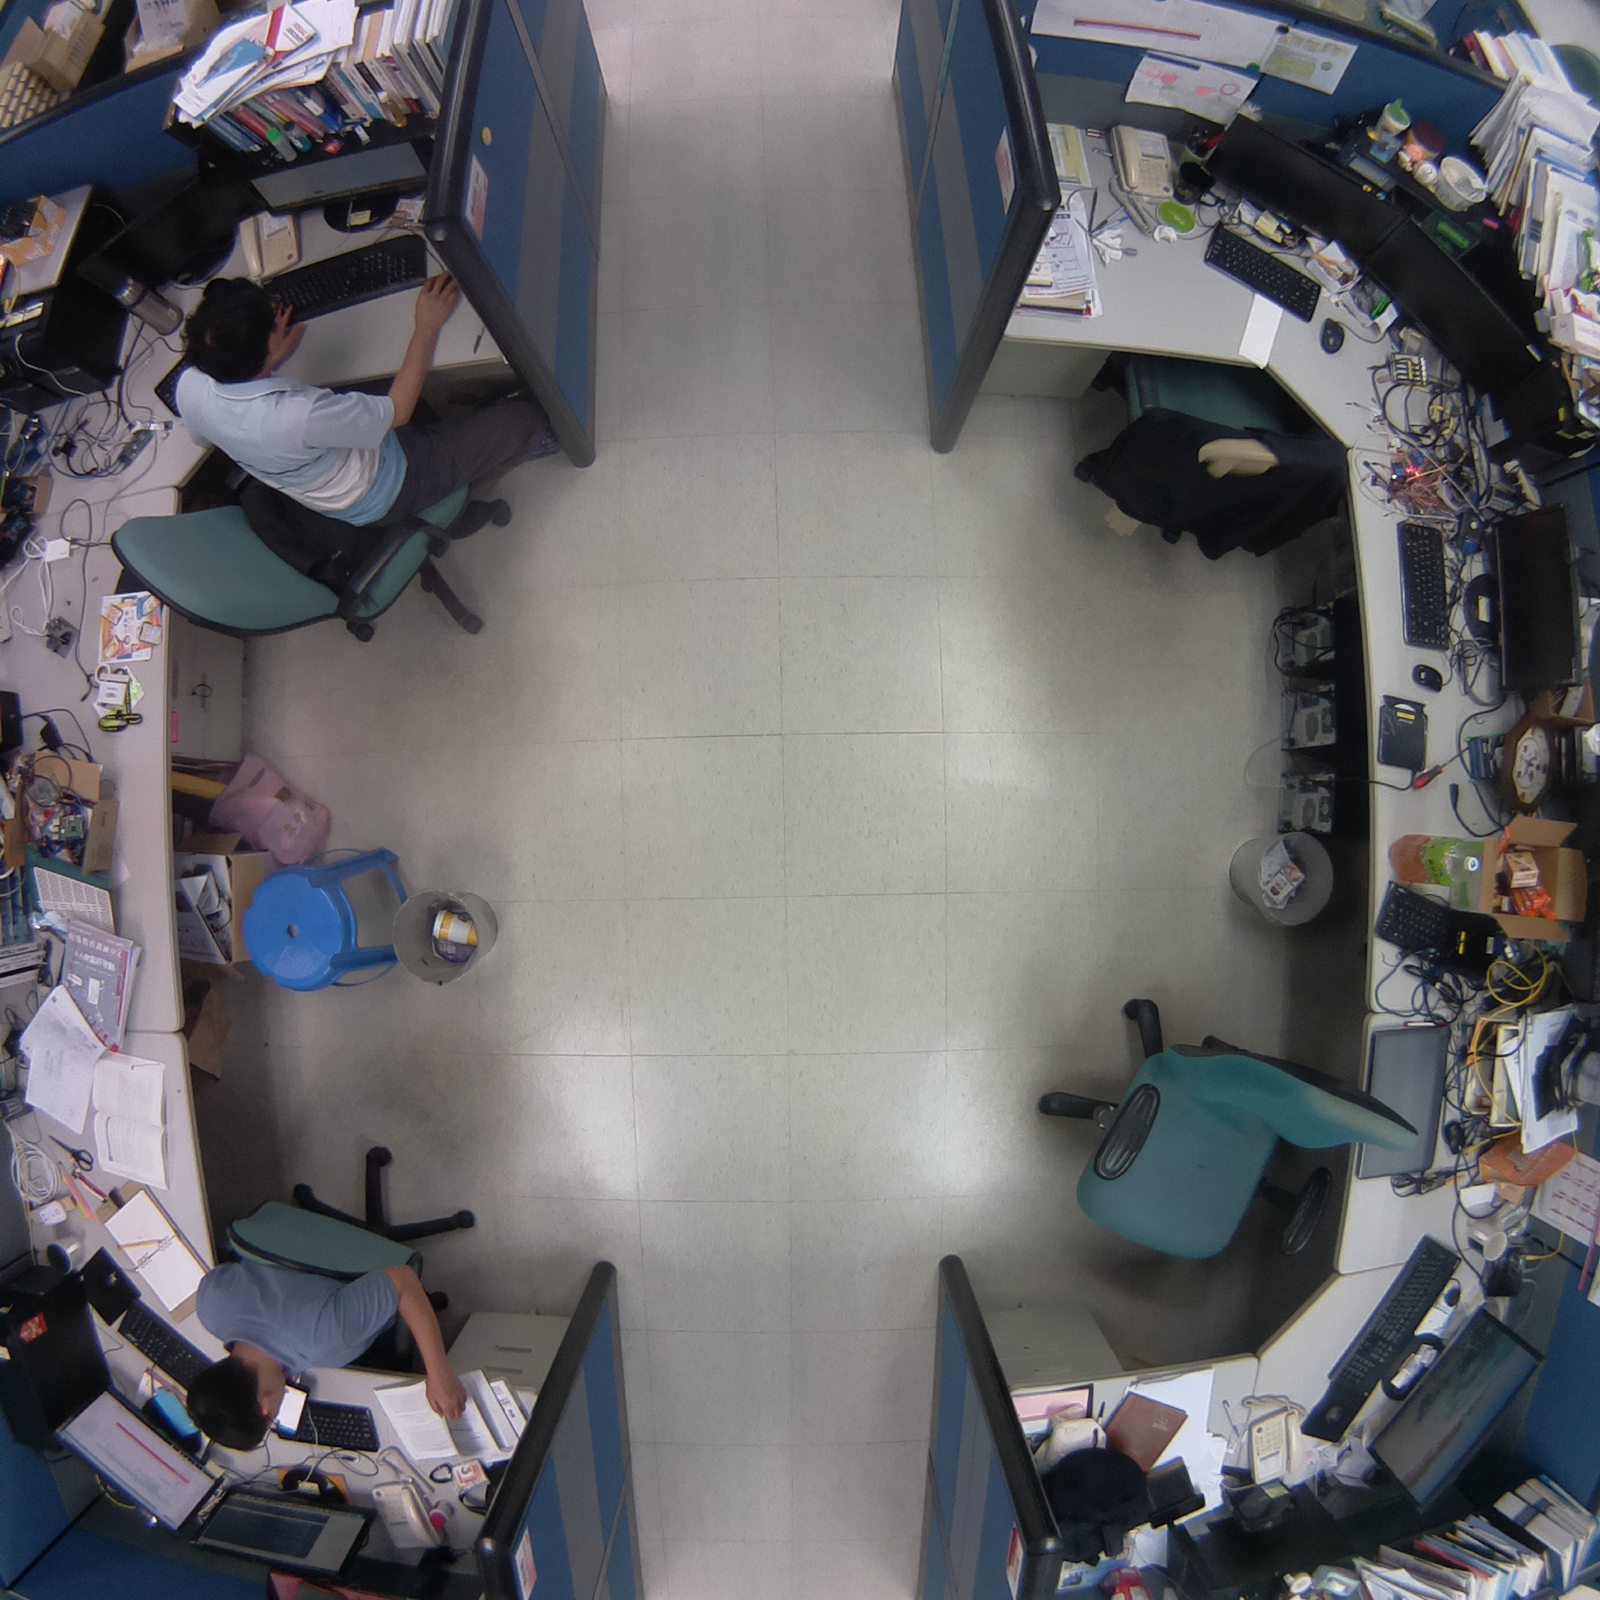chair: (1022, 973, 1463, 1296), (1055, 334, 1353, 575)
head: (170, 267, 294, 387), (181, 1345, 303, 1460)
sitting: (96, 255, 527, 660), (171, 1134, 506, 1466)
